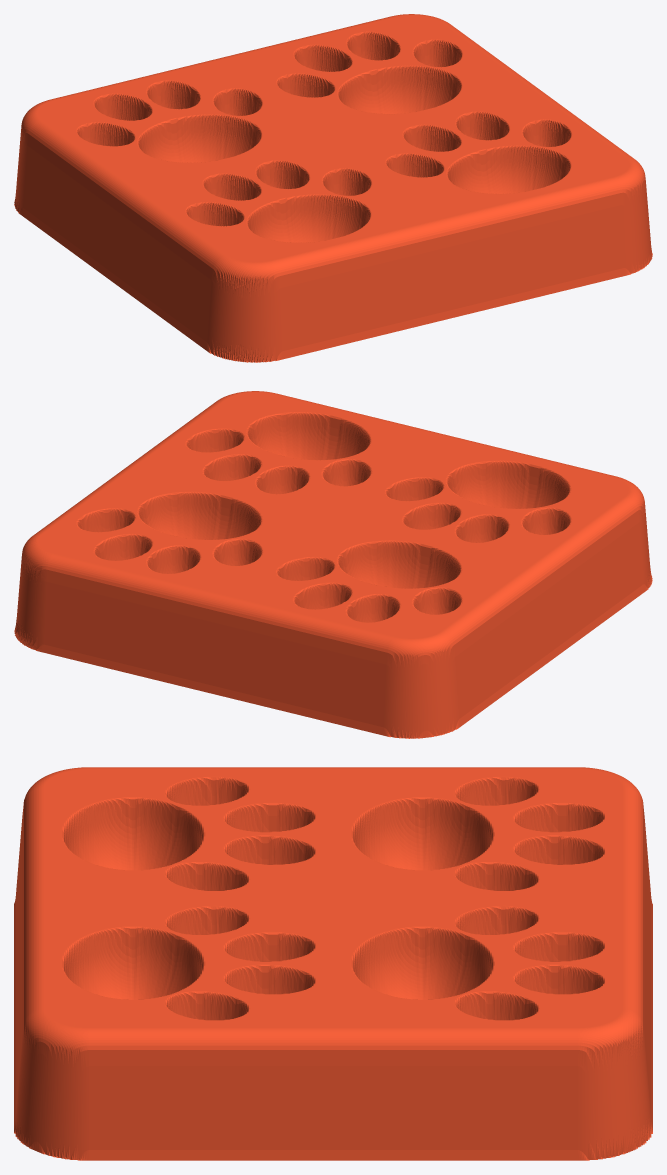
The model's file is mold.glb.
3 renders of one model, top to bottom at view 1: azimuth 30°, elevation 25°; view 2: azimuth 150°, elevation 25°; view 3: azimuth 270°, elevation 25°, orthographic. The views are drawn at different scales.
Parts seen in each view (by area): view 1: geometry_0; view 2: geometry_0; view 3: geometry_0.
Part boxes in pixels (bbox=[...]): geometry_0: bbox=[14, 14, 652, 362]; geometry_0: bbox=[14, 391, 652, 738]; geometry_0: bbox=[14, 767, 652, 1160].
Bounding box in the file's own units: 0.0808 × 0.0159 × 0.0768.
